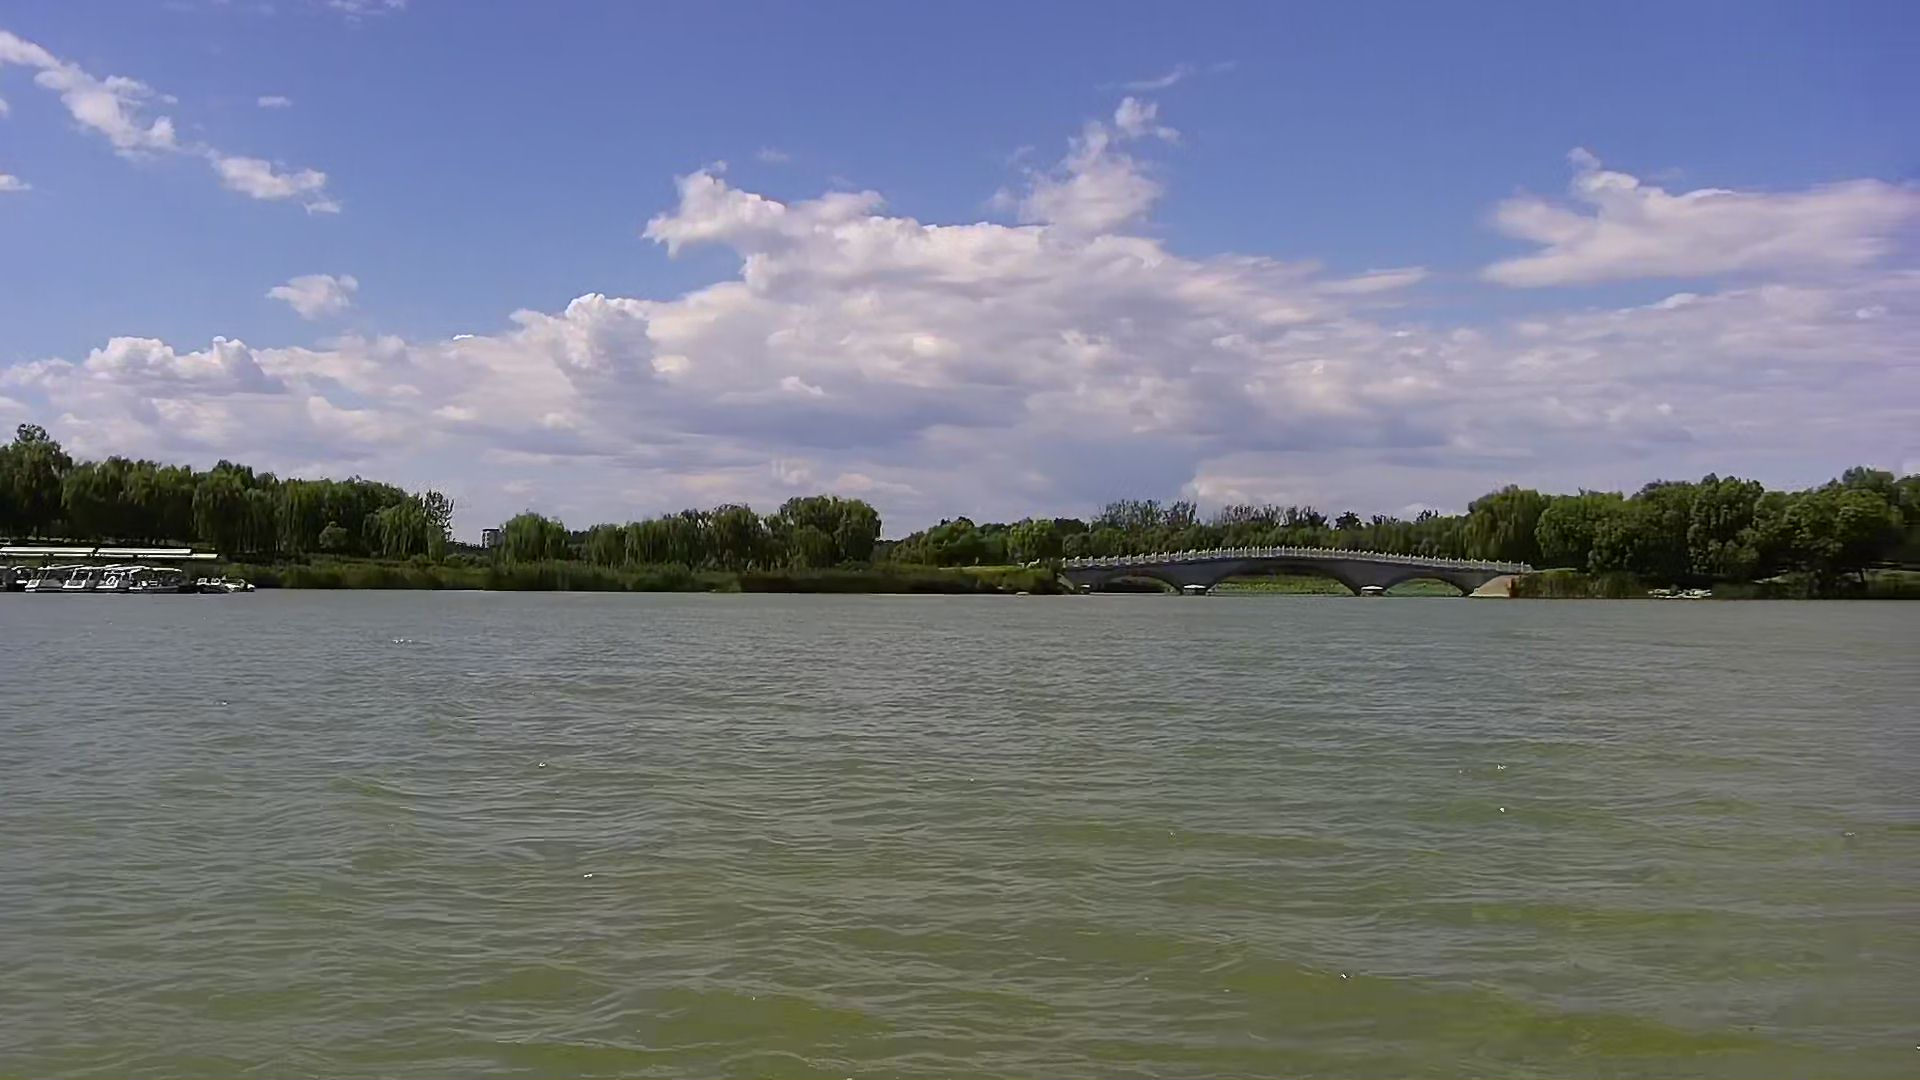bridge: (1054, 545, 1528, 607)
harbor: (1, 547, 248, 601)
